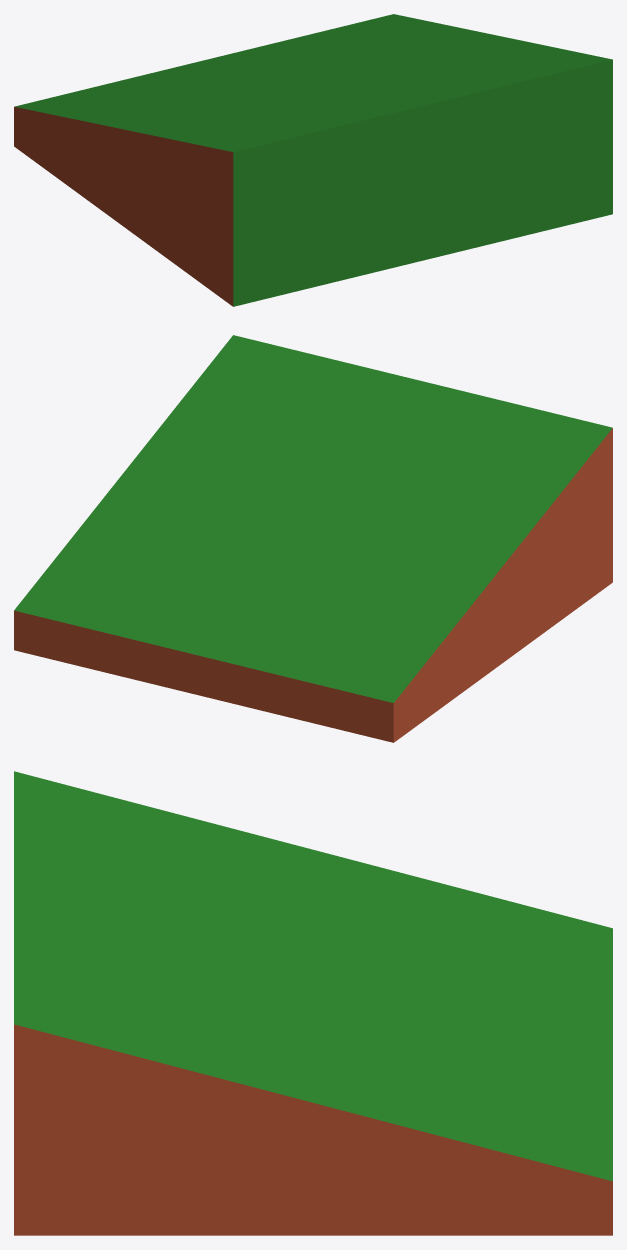
File: slope.fbx
3 renders of one model, top to bottom at view 1: azimuth 30°, elevation 25°; view 2: azimuth 150°, elevation 25°; view 3: azimuth 270°, elevation 25°, orthographic. The views are drawn at different scales.
Visible parts, largest first — view 1: Slope; view 2: Slope; view 3: Slope.
Boxes of the visible parts, x1=… form: Slope: x1=14, y1=14, x2=612, y2=306; Slope: x1=14, y1=335, x2=612, y2=742; Slope: x1=14, y1=771, x2=612, y2=1235.
Size of what is drawn, in the model's own units: 200 by 77.88 by 200.
